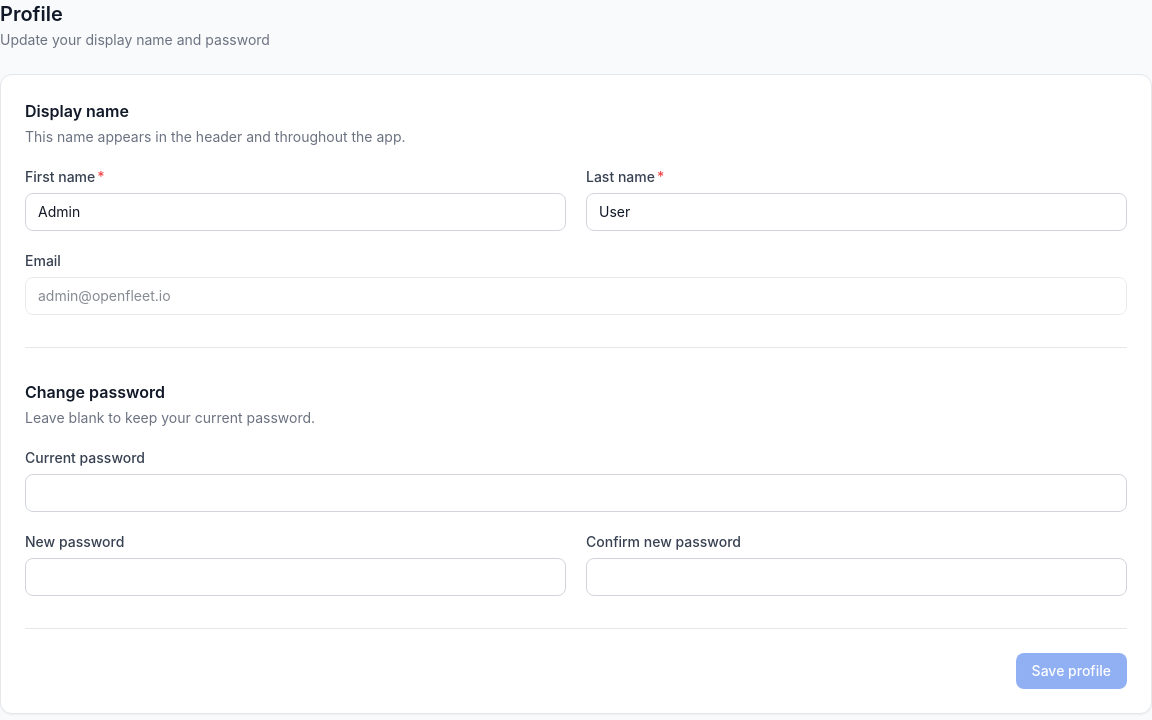
Test: ProfilePage › updates display name successfully
Replace the text in the field labelled "First name*" with "Warren" at point(296, 212), box top-left (25, 193), bottom-right (566, 231)
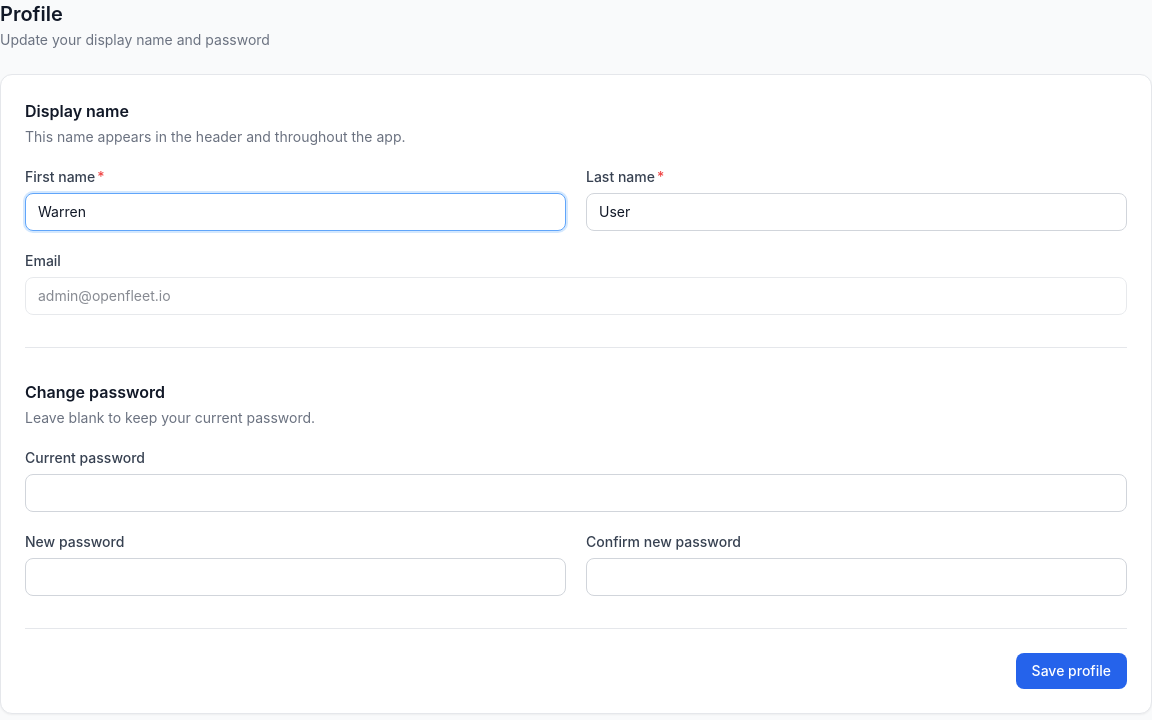
Click the button "Save profile" at point(1071, 671), box top-left (1016, 653), bottom-right (1127, 689)
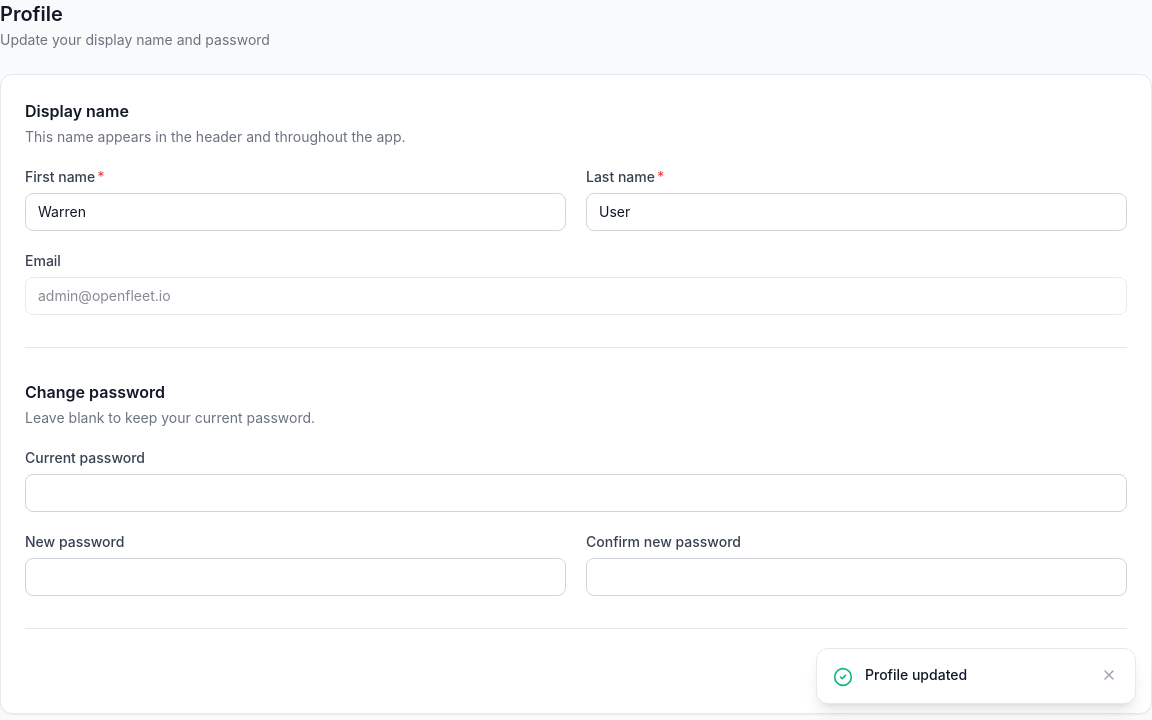
Now the text "Profile updated" is shown, box top-left (865, 666), bottom-right (967, 683)
